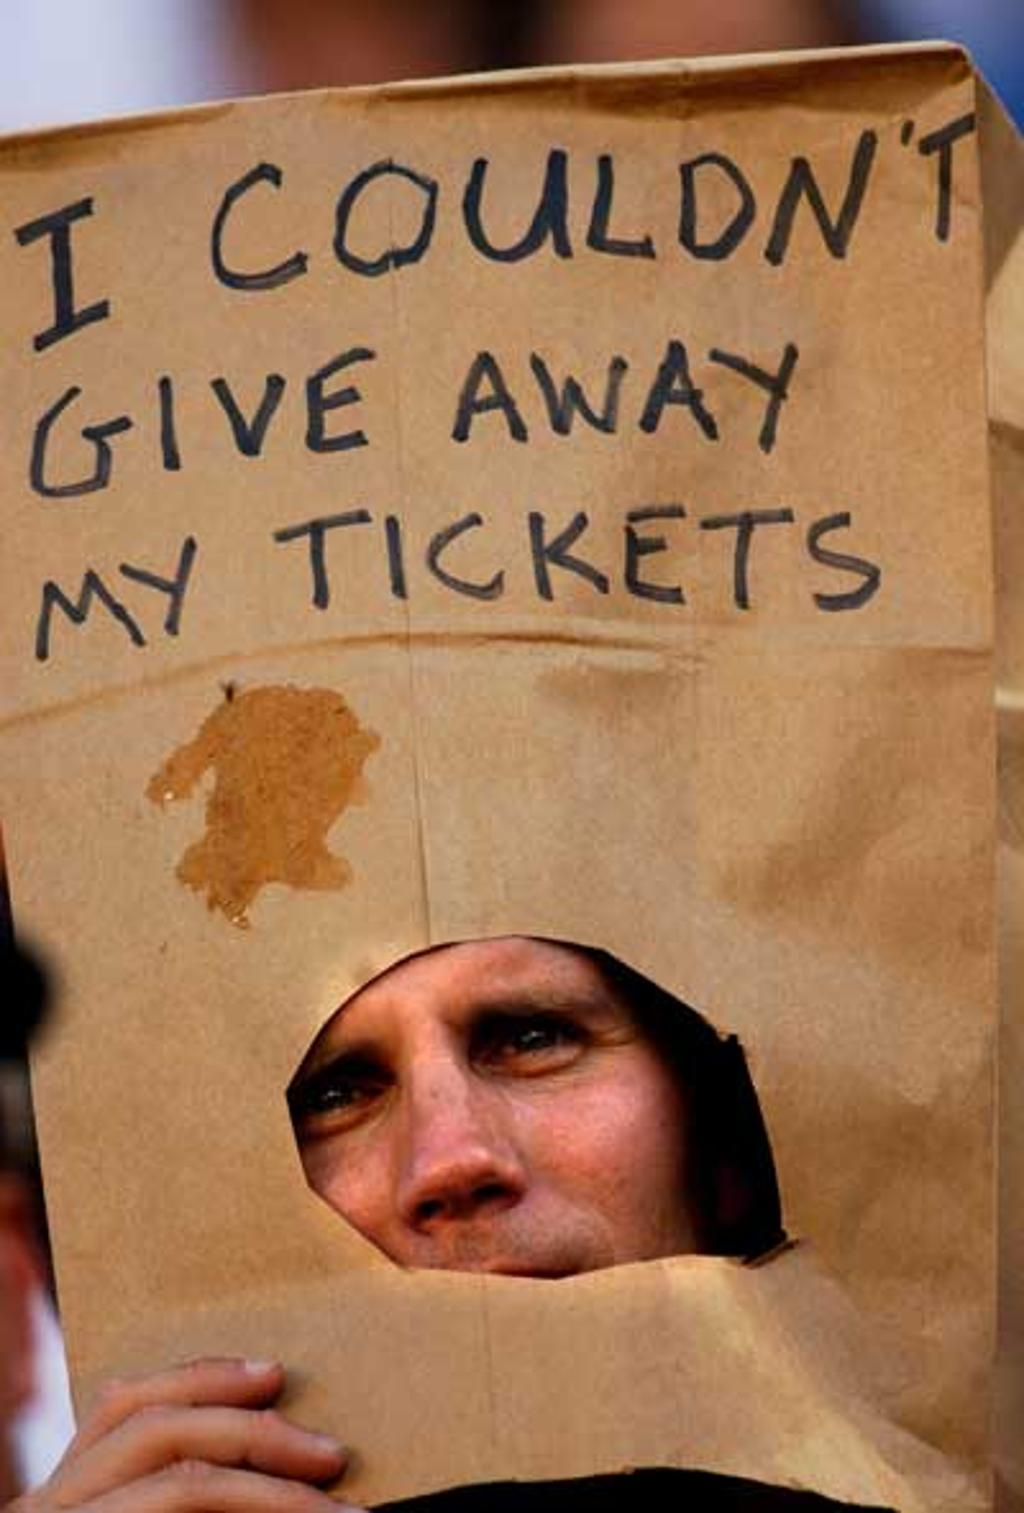face: (274, 915, 693, 1405)
